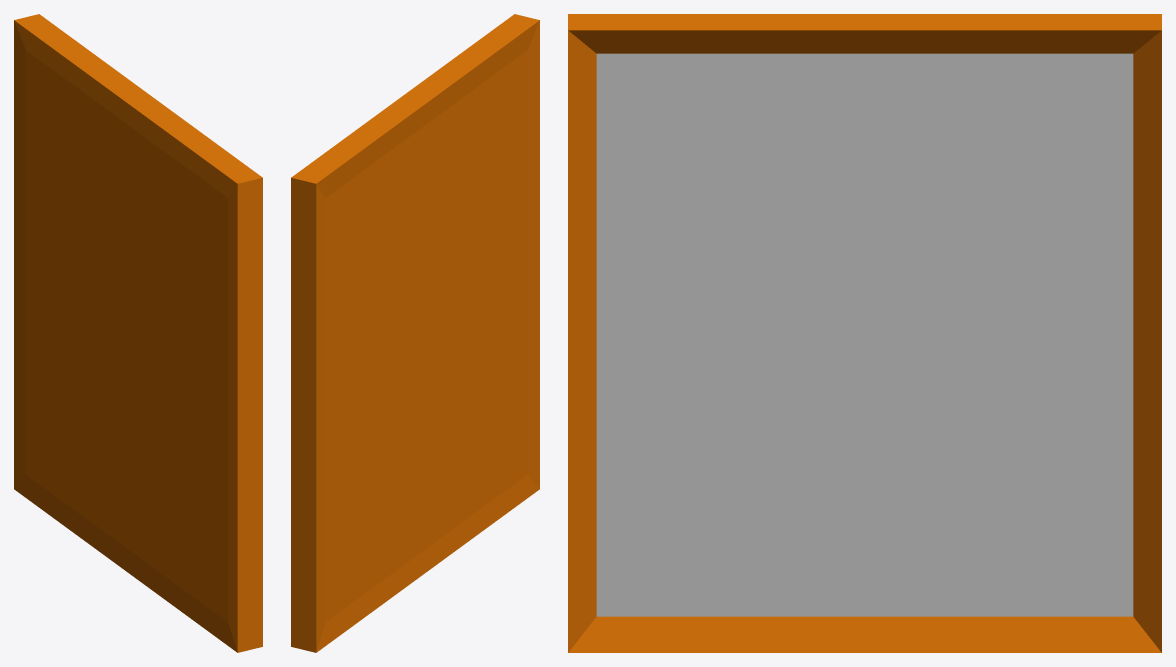
File: WhiteBoard.fbx
3 renders of one model, left to right at view 1: azimuth 30°, elevation 25°; view 2: azimuth 150°, elevation 25°; view 3: azimuth 270°, elevation 25°, orthographic. The views are drawn at different scales.
Parts seen in each view (by area): view 1: pCube9; view 2: pCube9; view 3: pCube9.
Part boxes in pixels (bbox=[...]): pCube9: bbox=[14, 14, 262, 652]; pCube9: bbox=[291, 14, 539, 652]; pCube9: bbox=[568, 14, 1161, 652].
Bounding box in the file's own units: 0.2817 × 5 × 4.32.
